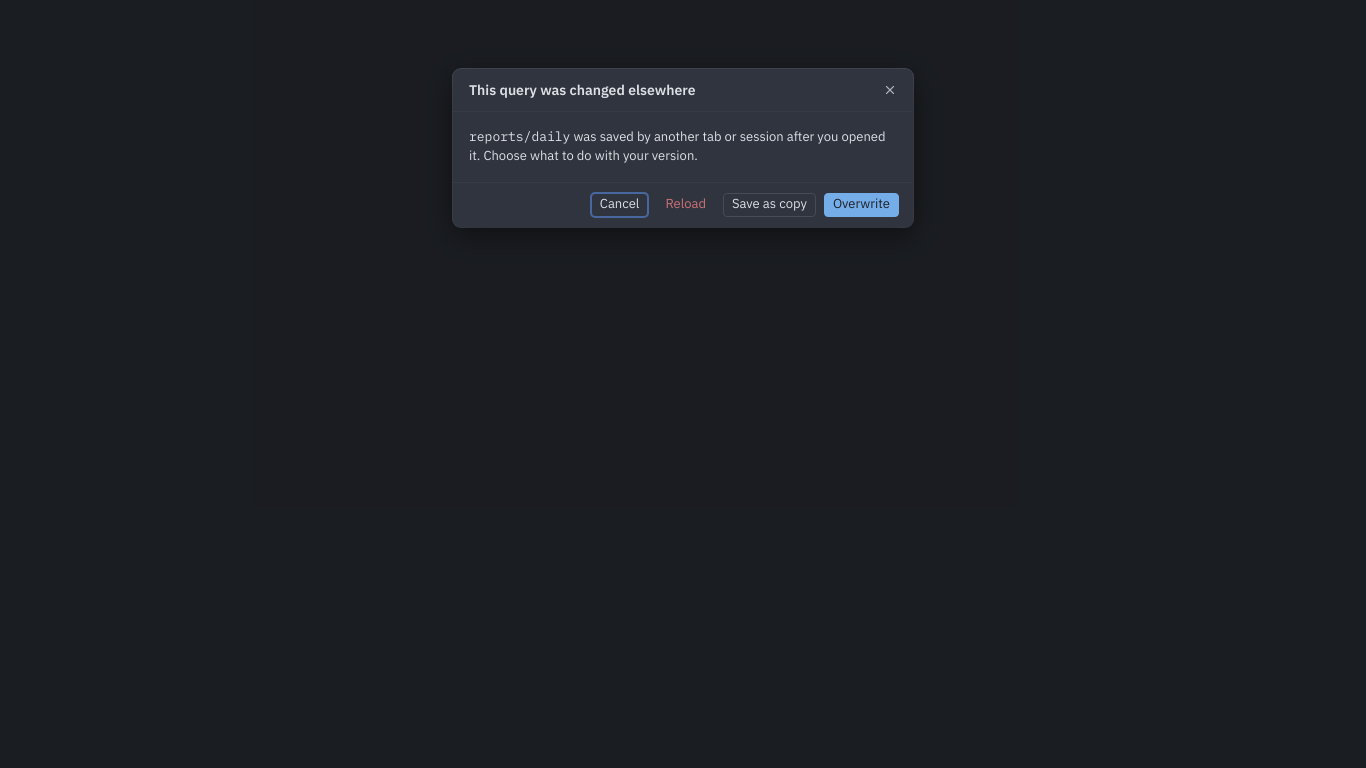
QueryDialogs › conflict › Save as copy opens Save as with "<name> copy"
The image size is (1366, 768).
Click the button "Save as copy": (769, 205) [723,193,816,217]
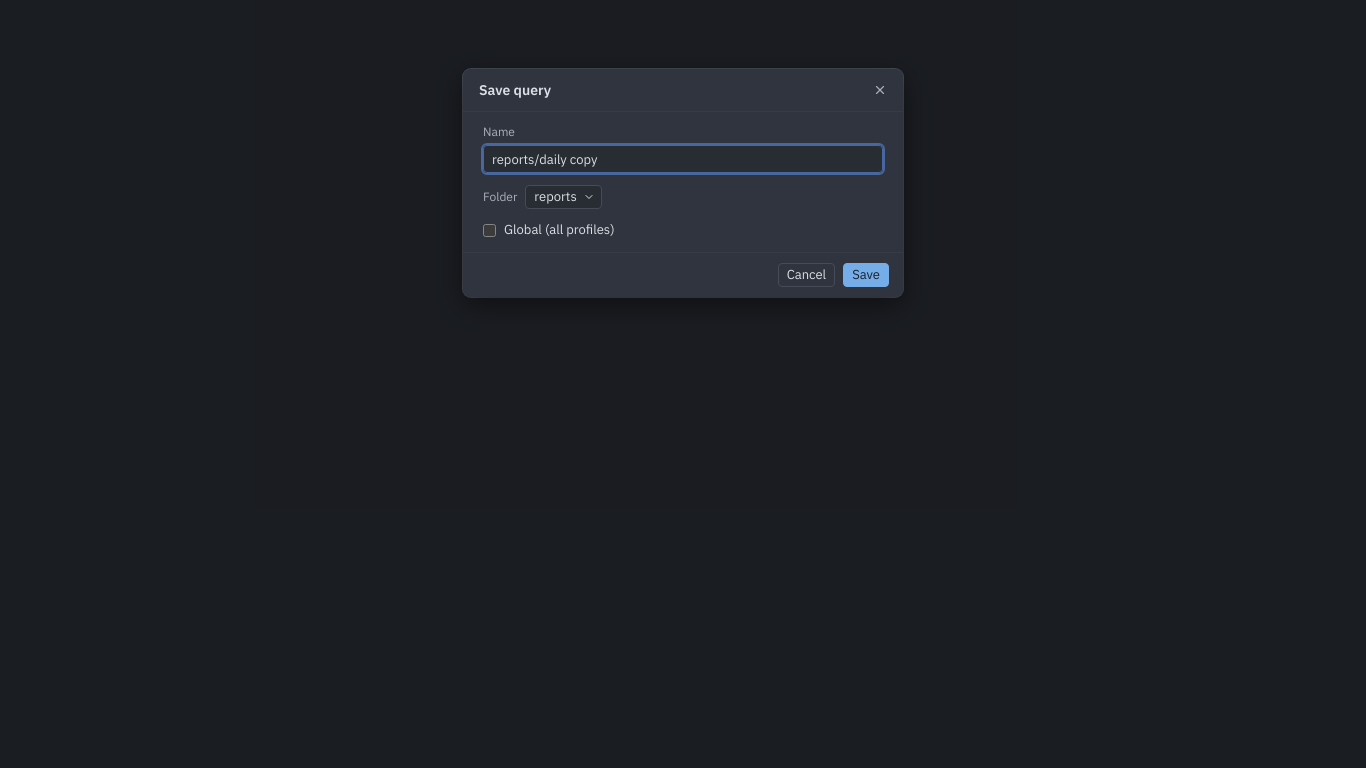
Now the field labelled "Name" holds "reports/daily copy", box [483,145,883,173]
